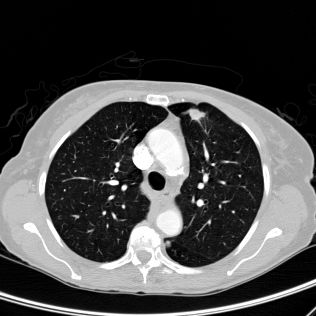nodule: (189, 107, 203, 121)
